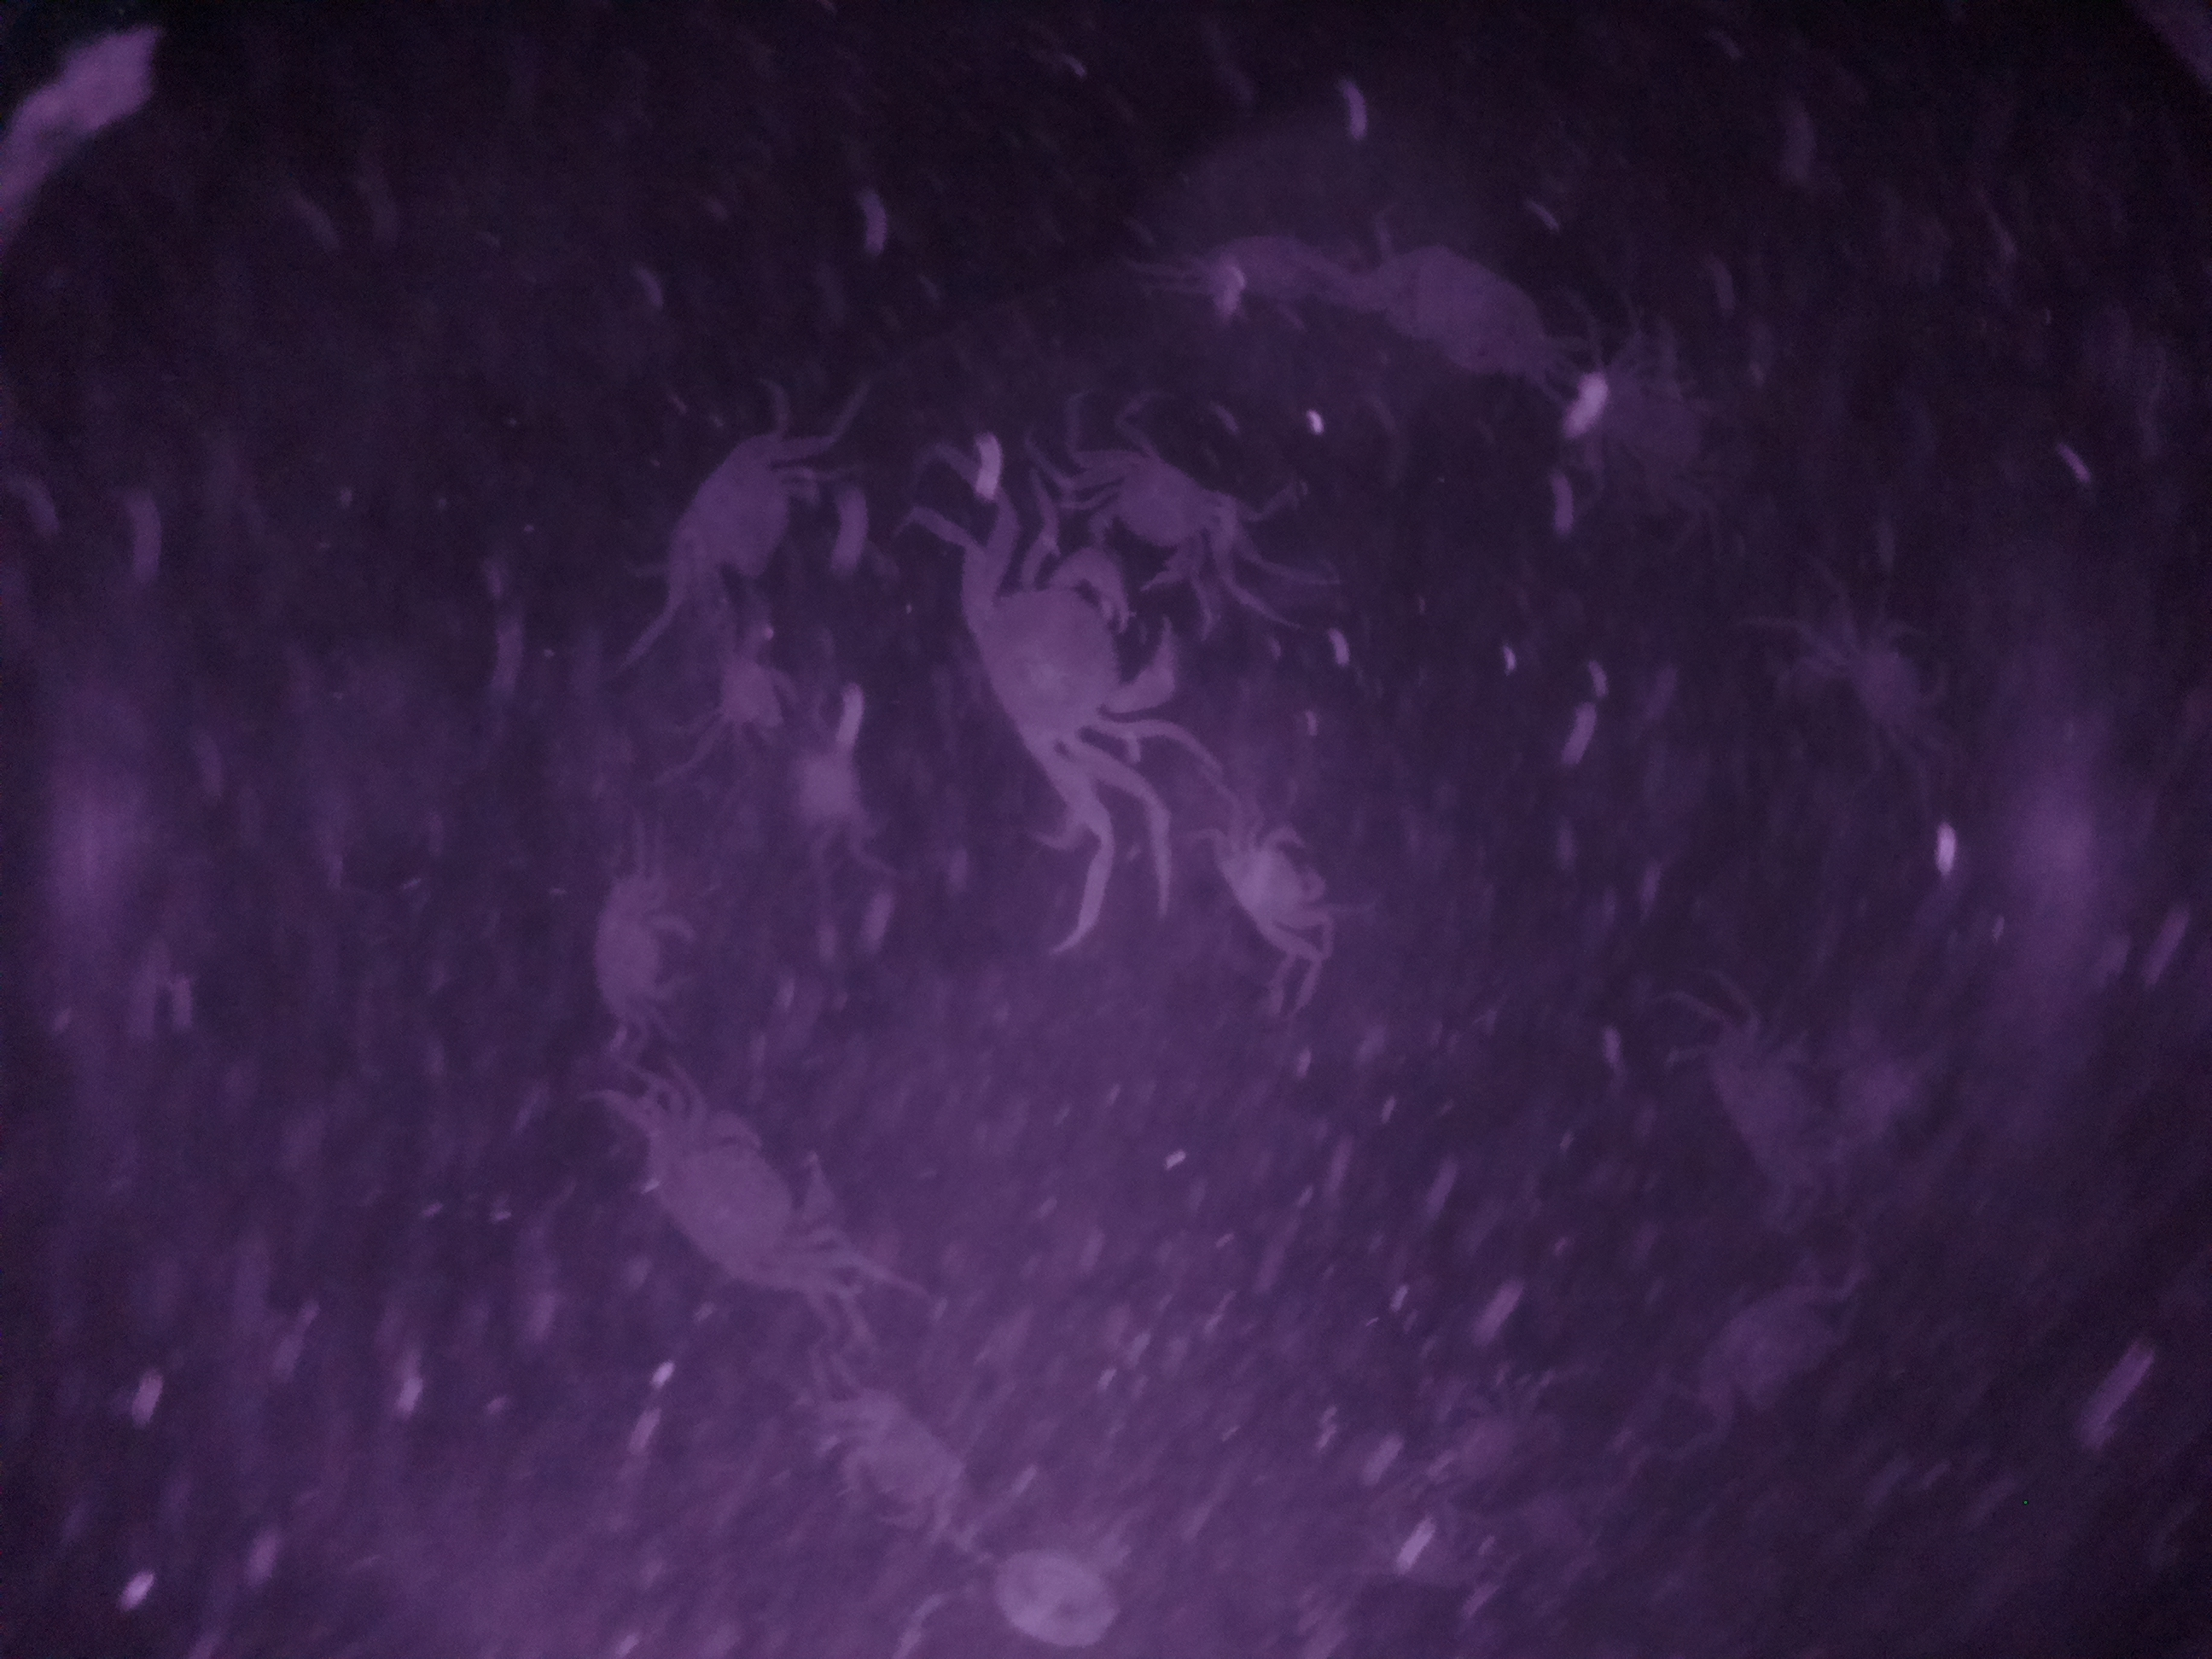Crab: (617, 1082, 874, 1330), (944, 532, 1172, 802), (1062, 434, 1258, 603), (557, 875, 712, 1037), (1197, 816, 1341, 983)
